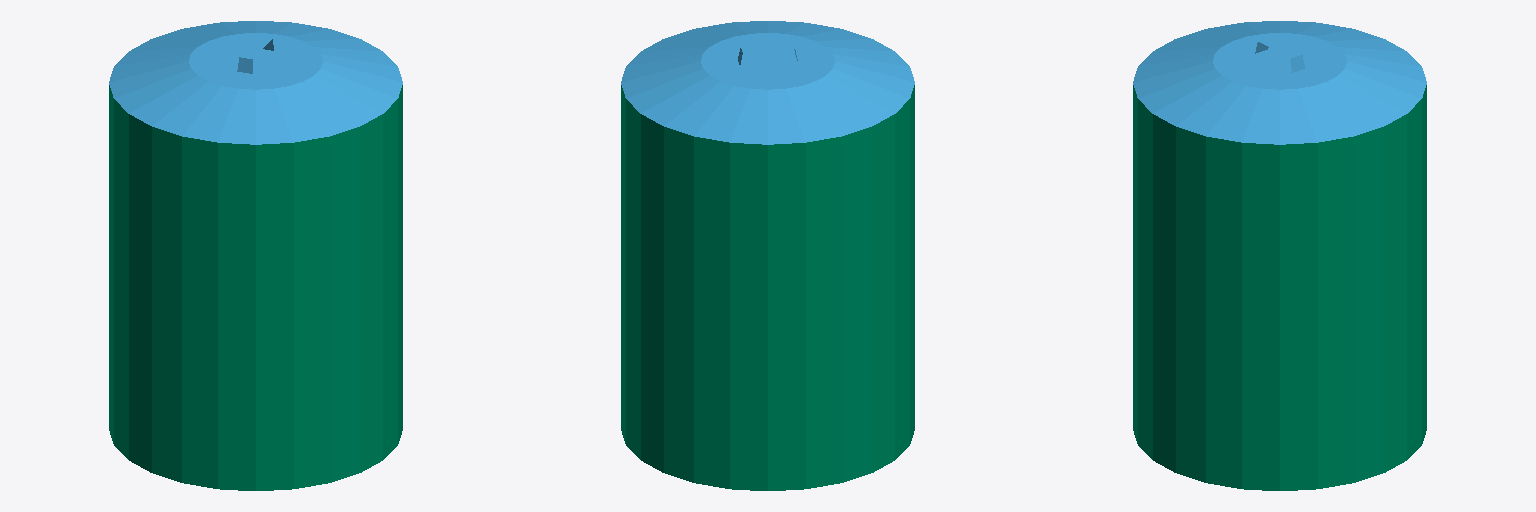
robot.urdf — partnet_e519a53461b3b75b66f3eac0b0a36798:
<?xml version="1.0" ?>
<robot name="partnet_e519a53461b3b75b66f3eac0b0a36798">
	<link name="base"/>
	<link name="link_0">
		<visual name="cover_lid-5">
			<origin xyz="-0.005299999999999999 0 0.011145500000000003"/>
			<geometry>
				<mesh filename="textured_objs/new-2.obj"/>
			</geometry>
		</visual>
		<visual name="cover_handle-6">
			<origin xyz="-0.005299999999999999 0 0.011145500000000003"/>
			<geometry>
				<mesh filename="textured_objs/new-1.obj"/>
			</geometry>
		</visual>
		<collision>
			<origin xyz="-0.005299999999999999 0 0.011145500000000003"/>
			<geometry>
				<mesh filename="textured_objs/new-2.obj"/>
			</geometry>
		</collision>
		<collision>
			<origin xyz="-0.005299999999999999 0 0.011145500000000003"/>
			<geometry>
				<mesh filename="textured_objs/new-1.obj"/>
			</geometry>
		</collision>
	</link>
	<joint name="joint_0" type="prismatic">
		<origin xyz="0.005299999999999999 0 -0.011145500000000003"/>
		<axis xyz="0 1 0"/>
		<child link="link_0"/>
		<parent link="link_1"/>
		<limit lower="0" upper="0.04800000000000004"/>
	</joint>
	<link name="link_1">
		<visual name="container_box-3">
			<origin xyz="0 0 0"/>
			<geometry>
				<mesh filename="textured_objs/new-3.obj"/>
			</geometry>
		</visual>
		<visual name="container_bottom-4">
			<origin xyz="0 0 0"/>
			<geometry>
				<mesh filename="textured_objs/new-0.obj"/>
			</geometry>
		</visual>
		<collision>
			<origin xyz="0 0 0"/>
			<geometry>
				<mesh filename="textured_objs/new-3.obj"/>
			</geometry>
		</collision>
		<collision>
			<origin xyz="0 0 0"/>
			<geometry>
				<mesh filename="textured_objs/new-0.obj"/>
			</geometry>
		</collision>
	</link>
	<joint name="joint_1" type="fixed">
		<origin rpy="1.570796326794897 0 -1.570796326794897" xyz="0 0 0"/>
		<child link="link_1"/>
		<parent link="base"/>
	</joint>
</robot>

--- What the picture shows (computed from the rendered views, not written in the file) ---
The picture shows the robot from 3 angles, left to right: view 1: azimuth 30°, elevation 25°; view 2: azimuth 150°, elevation 25°; view 3: azimuth 270°, elevation 25°; orthographic projection.
Robot: partnet_e519a53461b3b75b66f3eac0b0a36798 — 3 links, 2 joints (1 prismatic, 1 fixed); root link base; default pose: all joints at 0.
Links seen in each view (by area): view 1: link_1, link_0; view 2: link_1, link_0; view 3: link_1, link_0.
Link boxes in pixels (x1=…): link_1: x1=109, y1=85, x2=402, y2=490; link_0: x1=109, y1=21, x2=402, y2=144; link_1: x1=621, y1=85, x2=914, y2=490; link_0: x1=621, y1=21, x2=914, y2=144; link_1: x1=1133, y1=85, x2=1426, y2=490; link_0: x1=1133, y1=21, x2=1426, y2=144.
Size in the robot's own frame: 1.21 by 1.21 by 1.73 metres.
4 mesh visuals loaded from 4 distinct referenced files (4 OBJ).
